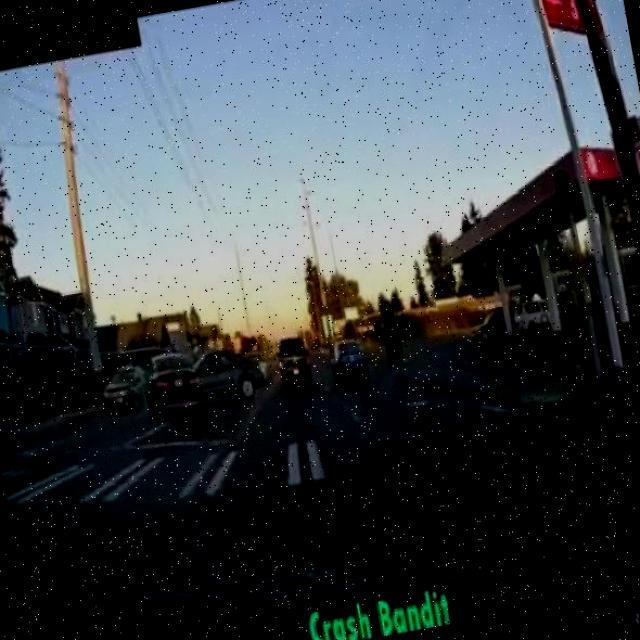accident: (138, 331, 278, 428)
